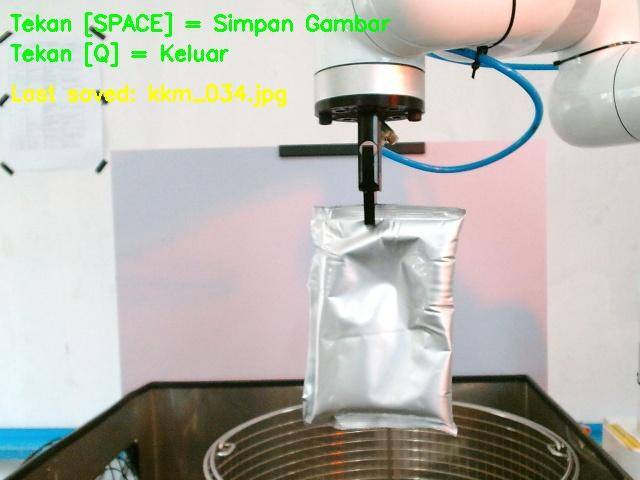retort-pouch: (300, 202, 465, 435)
